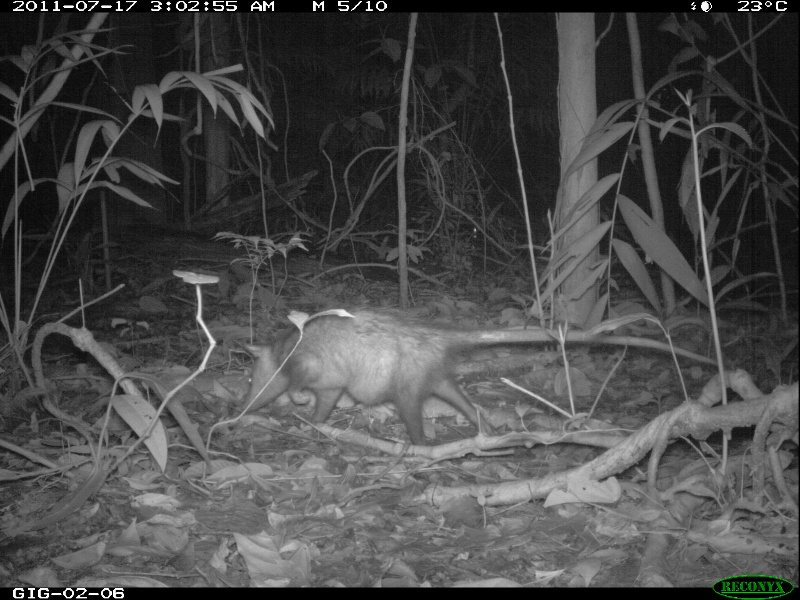opossum: (233, 305, 722, 443)
